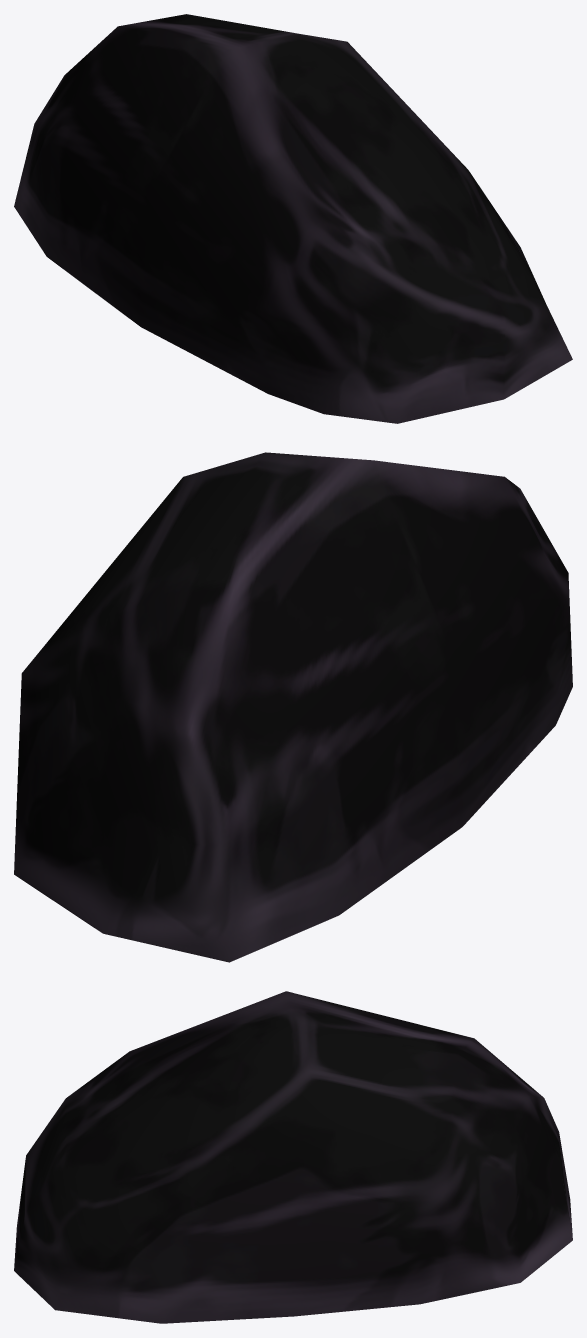
Rendered from Rock2_Rubble.fbx.
The picture shows the model from 3 angles, top to bottom: view 1: azimuth 30°, elevation 25°; view 2: azimuth 150°, elevation 25°; view 3: azimuth 270°, elevation 25°; orthographic projection. The views are drawn at different scales.
Parts seen in each view (by area): view 1: Rock2_LowPoly; view 2: Rock2_LowPoly; view 3: Rock2_LowPoly.
Boxes of the visible parts, box(x1,y1,x2,y2) form: Rock2_LowPoly: box(14, 14, 572, 423); Rock2_LowPoly: box(14, 452, 572, 962); Rock2_LowPoly: box(14, 991, 572, 1323).
Bounding box in the file's own units: 179 × 139 × 308.
